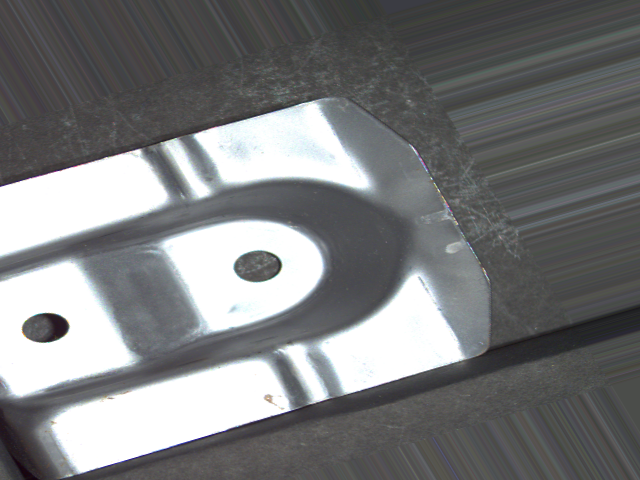defect: (231, 248, 287, 283)
